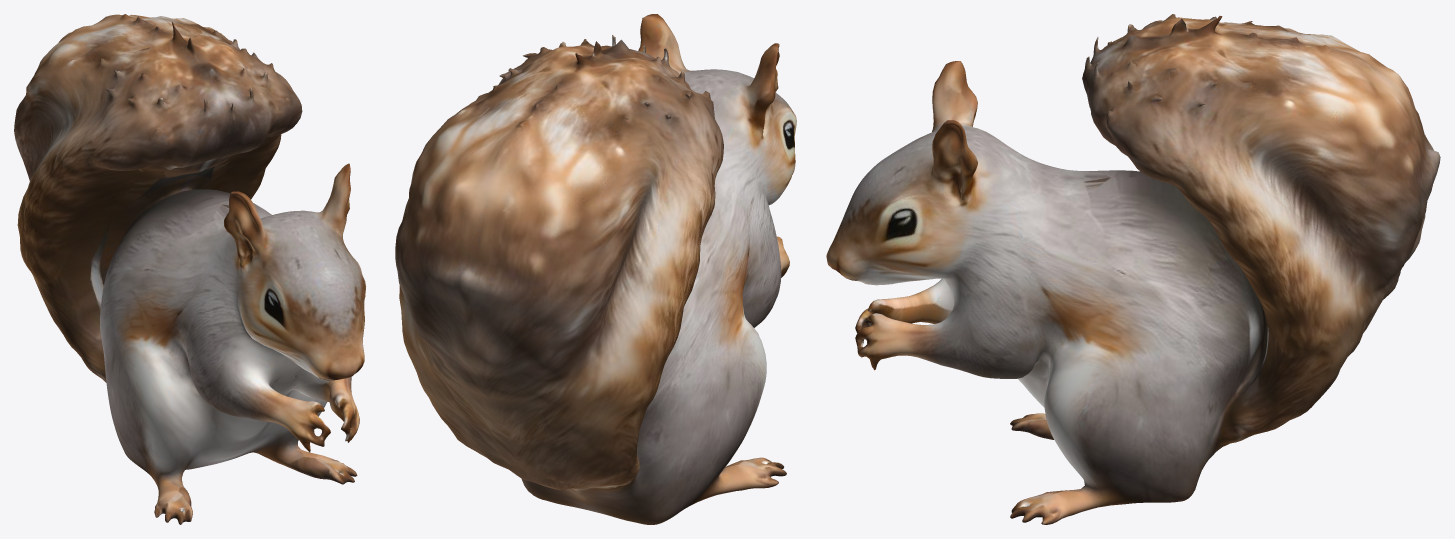
The model's file is squirrel.glb.
3 renders of one model, left to right at view 1: azimuth 30°, elevation 25°; view 2: azimuth 150°, elevation 25°; view 3: azimuth 270°, elevation 25°, orthographic. The views are drawn at different scales.
Visible parts, largest first — view 1: Object_2; view 2: Object_2; view 3: Object_2.
Part boxes in pixels (box(x1,y1,x2,y2)): Object_2: box(14, 14, 366, 524); Object_2: box(395, 14, 796, 524); Object_2: box(826, 14, 1440, 524).
Size of the model in its own units: 0.9402 by 1.56 by 1.89.
1 material, 1 textured.
